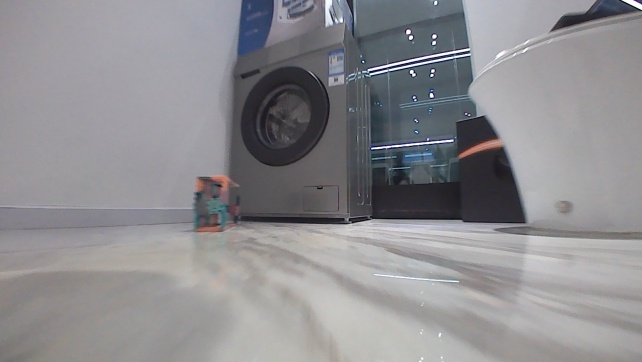plastic_toy: (188, 173, 241, 232)
toilet: (465, 9, 641, 234)
washing_machine: (233, 20, 372, 224)
